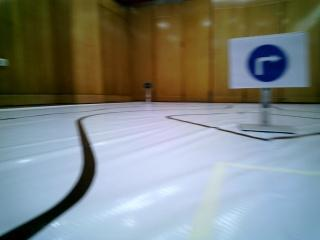right: (229, 41, 308, 87)
